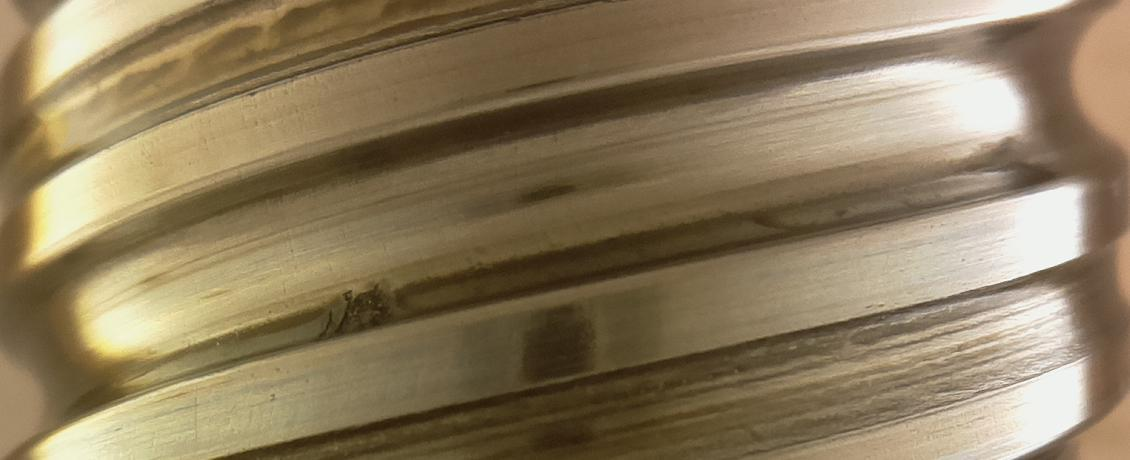pitting: (335, 283, 386, 333), (320, 310, 332, 335)
